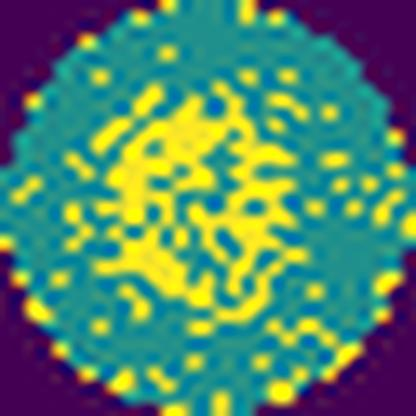Donut: (62, 74, 324, 339)
